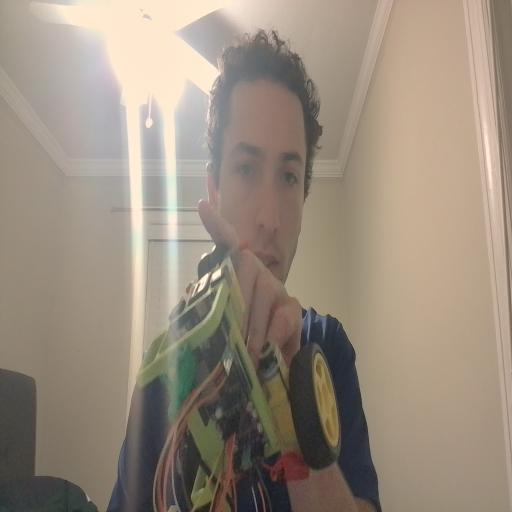green LEGO minifig: (160, 341, 198, 425)
